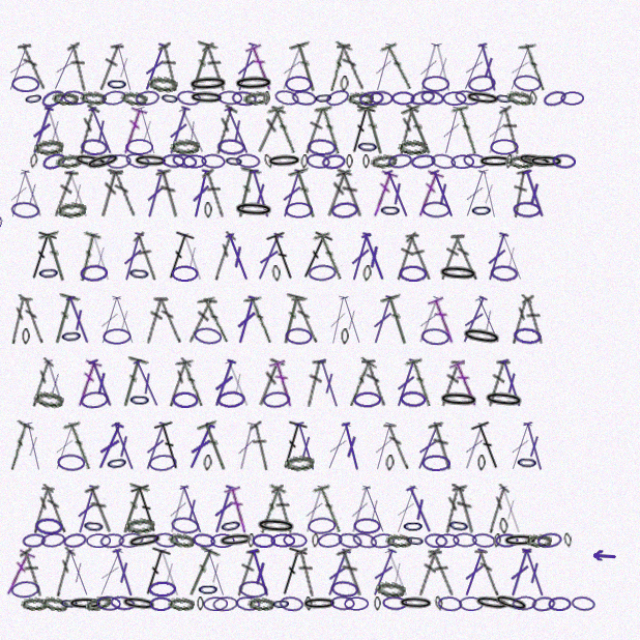chain: (466, 320, 508, 342), (497, 577, 534, 600), (488, 382, 529, 402), (103, 151, 140, 173), (91, 152, 128, 172), (444, 261, 485, 279), (268, 505, 309, 523), (203, 78, 243, 96), (445, 383, 485, 401), (144, 518, 180, 538), (520, 152, 556, 171), (479, 579, 515, 598), (247, 78, 287, 95), (247, 200, 287, 217), (470, 92, 506, 110), (138, 580, 174, 598), (232, 519, 268, 536), (102, 578, 131, 599), (60, 90, 86, 112), (76, 199, 106, 218), (54, 382, 84, 401), (142, 504, 172, 523), (208, 321, 237, 340), (186, 504, 215, 523), (335, 90, 361, 111), (61, 151, 87, 172), (164, 78, 194, 96), (54, 139, 84, 157), (296, 444, 326, 462), (384, 566, 414, 584), (473, 77, 501, 96), (517, 77, 545, 96), (517, 321, 545, 340), (204, 93, 239, 108), (150, 154, 185, 169), (279, 154, 314, 169), (406, 581, 441, 596), (318, 139, 347, 157), (32, 200, 61, 218), (428, 322, 457, 340), (32, 566, 61, 584), (252, 566, 281, 584), (545, 91, 571, 111), (361, 518, 387, 538), (99, 139, 127, 157), (231, 139, 259, 157), (341, 200, 369, 218), (495, 261, 523, 279), (99, 383, 127, 401), (275, 383, 303, 401), (165, 444, 193, 462), (55, 505, 83, 523), (341, 566, 369, 584), (61, 580, 89, 598), (286, 91, 312, 110), (417, 91, 443, 110), (460, 91, 486, 110), (142, 152, 168, 171), (186, 139, 215, 156), (483, 155, 518, 169), (532, 155, 567, 169), (507, 521, 542, 535), (87, 582, 122, 596), (313, 582, 348, 596), (429, 200, 457, 217), (319, 261, 347, 278), (231, 383, 259, 400), (437, 153, 463, 171), (347, 519, 373, 537), (406, 140, 435, 156), (256, 92, 283, 109), (510, 92, 537, 109), (75, 153, 102, 170), (379, 153, 406, 170), (517, 200, 544, 217), (99, 261, 126, 278), (297, 322, 324, 339), (77, 444, 104, 461), (319, 505, 346, 522), (184, 519, 211, 536), (233, 504, 257, 523), (453, 504, 477, 523), (82, 519, 107, 537), (495, 140, 523, 156), (121, 323, 149, 339), (429, 445, 457, 461), (120, 92, 146, 109), (187, 153, 213, 170), (408, 383, 434, 400), (127, 580, 153, 597), (33, 79, 60, 95), (297, 79, 324, 95), (429, 79, 456, 95), (138, 93, 165, 109), (143, 140, 170, 156), (297, 201, 324, 217), (187, 262, 214, 278), (407, 262, 434, 278), (363, 384, 390, 400), (123, 444, 147, 462), (363, 506, 390, 522), (165, 567, 192, 583), (82, 92, 107, 109), (152, 92, 177, 109), (192, 92, 217, 109), (303, 92, 328, 109), (427, 92, 452, 109), (396, 153, 421, 170), (468, 153, 493, 170), (61, 519, 86, 536), (136, 519, 161, 536), (170, 519, 195, 536), (328, 519, 353, 536), (540, 519, 565, 536), (188, 384, 214, 400), (145, 261, 168, 279), (101, 505, 124, 523), (317, 153, 341, 170), (245, 93, 270, 109), (368, 93, 393, 109), (124, 154, 149, 170), (418, 154, 443, 170), (118, 520, 143, 536), (379, 520, 404, 536), (227, 581, 252, 597), (249, 581, 274, 597), (291, 581, 316, 597), (444, 581, 469, 597), (99, 93, 125, 108), (332, 154, 356, 170), (43, 520, 67, 536), (207, 520, 231, 536), (431, 520, 455, 536), (477, 520, 501, 536), (535, 581, 559, 597), (573, 581, 597, 597), (249, 154, 274, 169), (516, 581, 541, 596), (366, 139, 388, 156), (58, 261, 80, 278), (80, 322, 102, 339), (520, 444, 542, 461), (72, 94, 98, 108), (357, 94, 383, 108), (512, 155, 538, 169), (394, 521, 420, 535), (529, 521, 555, 535), (42, 582, 68, 596), (184, 582, 210, 596), (261, 582, 287, 596), (232, 93, 256, 108), (216, 154, 240, 169), (295, 520, 319, 535), (459, 520, 483, 535), (115, 581, 139, 596), (341, 581, 365, 596), (391, 581, 415, 596), (124, 79, 146, 95), (388, 201, 410, 217), (476, 201, 498, 217), (146, 384, 168, 400), (410, 506, 432, 522), (212, 567, 234, 583), (379, 93, 402, 108), (178, 154, 201, 169), (555, 154, 578, 169), (44, 93, 65, 109), (449, 94, 473, 108), (198, 155, 222, 169), (105, 521, 129, 535), (225, 521, 249, 535), (283, 521, 307, 535), (442, 521, 466, 535), (218, 582, 242, 596), (354, 582, 378, 596), (465, 582, 489, 596), (400, 94, 423, 108), (563, 94, 586, 108), (457, 155, 480, 169), (265, 521, 288, 535), (500, 521, 523, 535), (166, 582, 189, 596), (551, 582, 574, 596), (176, 93, 196, 109), (499, 93, 519, 109), (413, 520, 433, 536), (238, 154, 258, 169), (79, 581, 99, 596), (325, 93, 344, 108), (284, 582, 303, 596), (276, 154, 287, 169), (284, 262, 294, 278), (441, 581, 451, 596), (350, 79, 359, 95), (372, 262, 381, 278), (218, 445, 227, 461), (394, 445, 403, 461), (504, 506, 513, 522), (50, 154, 59, 169), (566, 520, 575, 535), (219, 201, 227, 217), (43, 323, 51, 339), (351, 323, 359, 339), (483, 445, 491, 461), (509, 155, 518, 169), (533, 94, 541, 108), (312, 155, 320, 169), (498, 521, 506, 535), (316, 582, 324, 596), (276, 94, 283, 108), (356, 155, 363, 169), (372, 155, 379, 169), (261, 521, 268, 535), (323, 521, 330, 535), (212, 582, 219, 596), (383, 582, 390, 596)
double: (197, 533, 235, 585), (307, 228, 345, 279), (409, 106, 446, 158), (212, 411, 248, 463), (388, 45, 424, 96), (212, 289, 248, 340), (300, 167, 335, 219), (278, 228, 313, 279), (352, 350, 387, 401), (476, 411, 511, 462), (199, 45, 233, 97), (301, 45, 335, 97), (59, 228, 93, 280), (389, 289, 423, 341), (133, 472, 167, 524), (22, 534, 57, 584), (177, 228, 211, 279), (323, 228, 357, 279), (147, 472, 181, 523), (265, 472, 299, 523), (67, 46, 101, 96), (191, 107, 225, 157), (265, 107, 299, 157), (147, 351, 181, 401), (111, 412, 145, 462), (199, 412, 233, 462), (279, 106, 312, 157), (367, 106, 400, 157), (45, 228, 78, 279), (67, 289, 100, 340), (257, 289, 290, 340), (133, 350, 166, 401), (191, 350, 224, 401), (323, 472, 356, 523), (155, 533, 188, 584), (287, 533, 320, 584), (463, 46, 496, 96), (235, 107, 268, 157), (265, 229, 298, 279), (463, 290, 496, 340), (477, 290, 510, 340), (455, 351, 488, 401), (419, 412, 452, 462), (103, 473, 136, 523), (411, 473, 444, 523), (522, 45, 554, 96), (354, 106, 386, 157), (24, 411, 56, 462), (82, 411, 114, 462), (170, 411, 202, 462), (288, 411, 320, 462), (258, 46, 290, 96), (288, 46, 320, 96), (508, 46, 540, 96), (104, 107, 136, 157), (346, 168, 378, 218), (390, 168, 422, 218), (434, 168, 466, 218), (236, 229, 268, 279), (500, 229, 532, 279), (82, 290, 114, 340), (420, 290, 452, 340), (434, 290, 466, 340), (104, 351, 136, 401), (236, 351, 268, 401), (266, 351, 298, 401), (332, 412, 364, 462), (112, 534, 144, 584), (332, 534, 364, 584), (346, 534, 378, 584), (376, 534, 408, 584), (390, 534, 422, 584), (244, 167, 275, 218), (288, 289, 319, 340), (412, 350, 443, 401), (24, 46, 55, 96), (156, 46, 187, 96), (38, 168, 69, 218), (82, 168, 113, 218), (332, 168, 363, 218), (376, 168, 407, 218), (420, 168, 451, 218), (368, 229, 399, 279), (126, 412, 157, 462), (192, 473, 223, 523), (368, 473, 399, 523), (398, 473, 429, 523), (500, 473, 531, 523), (82, 534, 113, 584), (200, 291, 232, 339), (333, 45, 363, 96), (325, 106, 355, 157), (457, 106, 487, 157), (412, 229, 443, 278), (434, 534, 465, 583), (47, 107, 77, 157), (135, 107, 165, 157), (179, 107, 209, 157), (487, 107, 517, 157), (465, 168, 495, 218), (523, 168, 553, 218), (193, 229, 223, 279), (127, 290, 157, 340), (91, 351, 121, 401), (223, 351, 253, 401), (325, 351, 355, 401), (399, 351, 429, 401), (501, 351, 531, 401), (69, 412, 99, 462), (157, 412, 187, 462), (465, 412, 495, 462), (509, 412, 539, 462), (171, 534, 201, 584), (215, 534, 245, 584), (465, 534, 495, 584), (523, 534, 553, 584), (91, 228, 120, 279), (245, 46, 274, 96), (61, 107, 90, 157), (259, 168, 288, 218), (289, 168, 318, 218), (105, 229, 134, 279), (487, 229, 516, 279), (113, 290, 142, 340), (347, 290, 376, 340), (377, 290, 406, 340), (61, 351, 90, 401), (281, 351, 310, 401), (303, 412, 332, 462), (435, 412, 464, 462), (91, 473, 120, 523), (223, 473, 252, 523), (311, 473, 340, 523), (355, 473, 384, 523), (127, 534, 156, 584), (259, 534, 288, 584), (509, 534, 538, 584), (39, 46, 68, 95), (347, 46, 376, 95), (149, 229, 178, 278), (303, 290, 332, 339), (378, 46, 406, 96), (422, 46, 450, 96), (150, 107, 178, 157), (26, 168, 54, 218), (158, 168, 186, 218), (172, 168, 200, 218), (136, 229, 164, 279), (356, 229, 384, 279), (246, 290, 274, 340), (378, 412, 406, 462), (524, 412, 552, 462), (180, 473, 208, 523), (238, 473, 266, 523), (458, 473, 486, 523), (457, 230, 486, 278), (114, 46, 142, 95), (216, 46, 244, 95), (224, 107, 252, 156), (70, 168, 98, 217), (172, 290, 200, 339), (180, 351, 208, 400), (392, 412, 420, 461), (128, 46, 155, 96), (480, 46, 507, 96), (444, 107, 471, 157), (114, 168, 141, 218), (348, 412, 375, 462), (92, 107, 119, 156), (128, 168, 155, 217), (216, 168, 243, 217), (224, 229, 251, 278), (444, 229, 471, 278), (48, 351, 75, 400), (444, 351, 471, 400), (62, 473, 89, 522), (40, 534, 67, 583), (422, 534, 449, 583), (480, 534, 507, 583), (437, 46, 463, 96), (203, 168, 229, 218), (481, 168, 507, 218), (335, 290, 361, 340), (41, 412, 67, 462), (247, 412, 273, 462), (313, 107, 339, 156), (401, 107, 427, 156), (401, 229, 427, 278), (41, 290, 67, 339), (511, 290, 537, 339), (525, 290, 551, 339), (371, 351, 397, 400), (489, 351, 515, 400), (49, 473, 75, 522), (283, 473, 309, 522), (445, 473, 471, 522), (489, 473, 515, 522), (247, 534, 273, 583), (503, 107, 528, 156), (159, 290, 184, 339), (71, 534, 96, 583), (86, 46, 110, 95), (174, 46, 198, 95), (262, 412, 286, 461), (306, 534, 330, 583), (28, 290, 51, 339), (314, 351, 337, 400), (514, 168, 534, 217)
noise: (5, 209, 26, 230), (592, 537, 617, 548)
